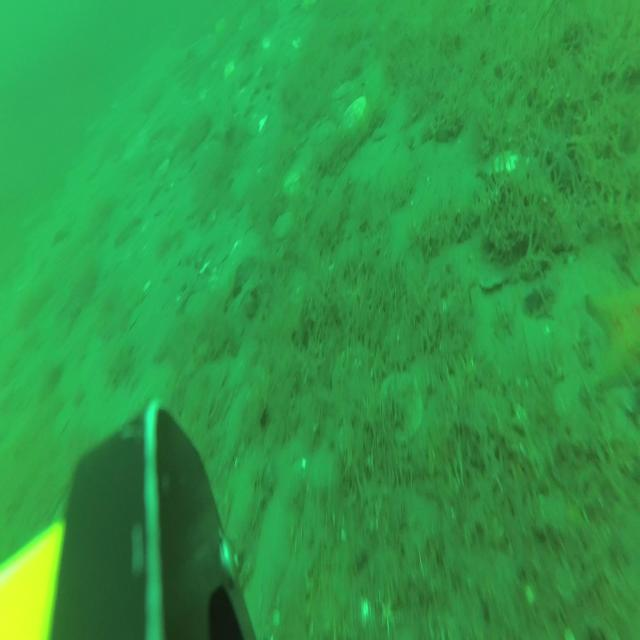scallop: (284, 161, 306, 197), (343, 98, 365, 132), (272, 212, 292, 237), (221, 62, 235, 82)
starfish: (584, 279, 640, 383)
